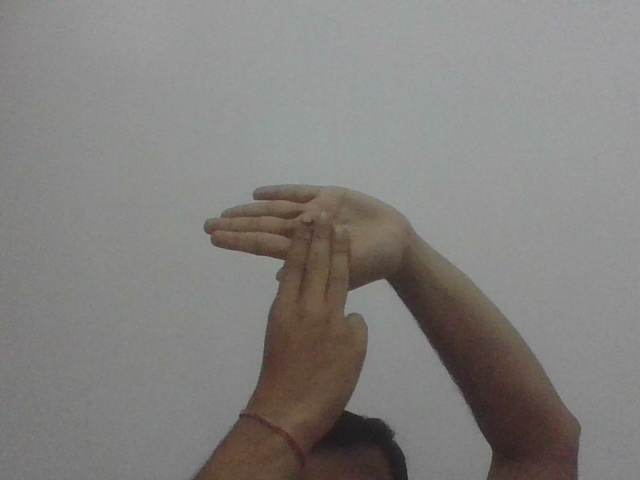M: (203, 181, 409, 343)
